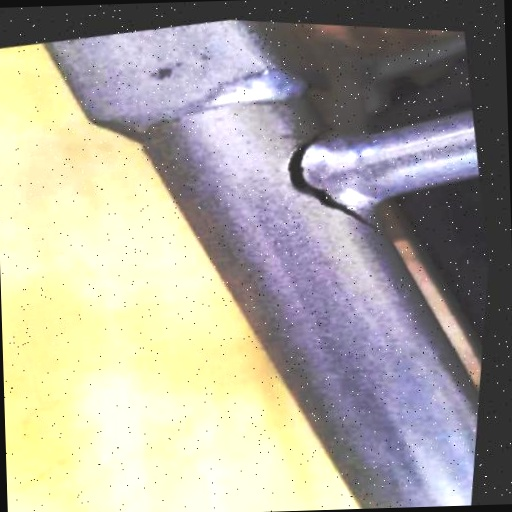crack: (257, 103, 409, 265)
